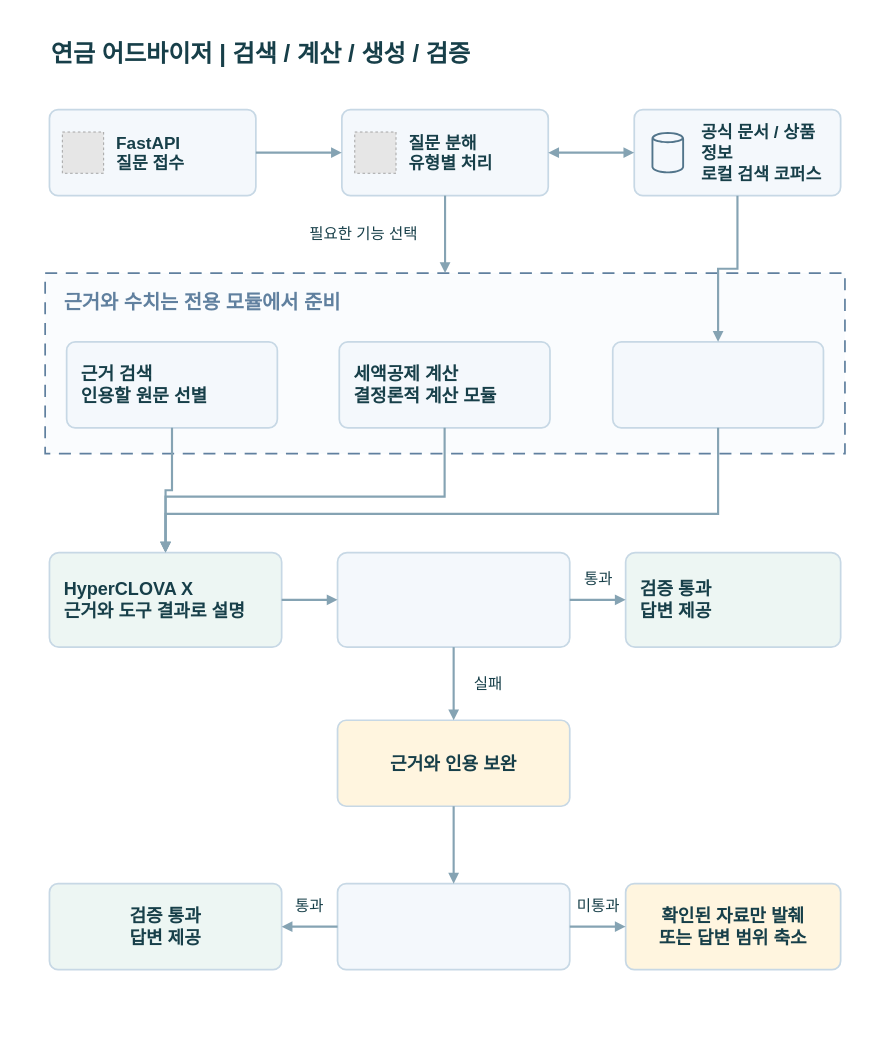
Some shapes in this 889 by 1053 pixel diagram are drawn without their labels. Grey dashed boxes stand in for pictures. Here are the shapes that lost their labels. From the top down, the centre of each, then its label:
the point at 717,384: 상품 비교 / 조건 필터 구조화 상품 정보
the point at 453,599: 수치 / 상품 / 인용 검증 원문과 생성 답변 대조
the point at 453,926: 재검사 수치 / 상품 / 인용 검증
